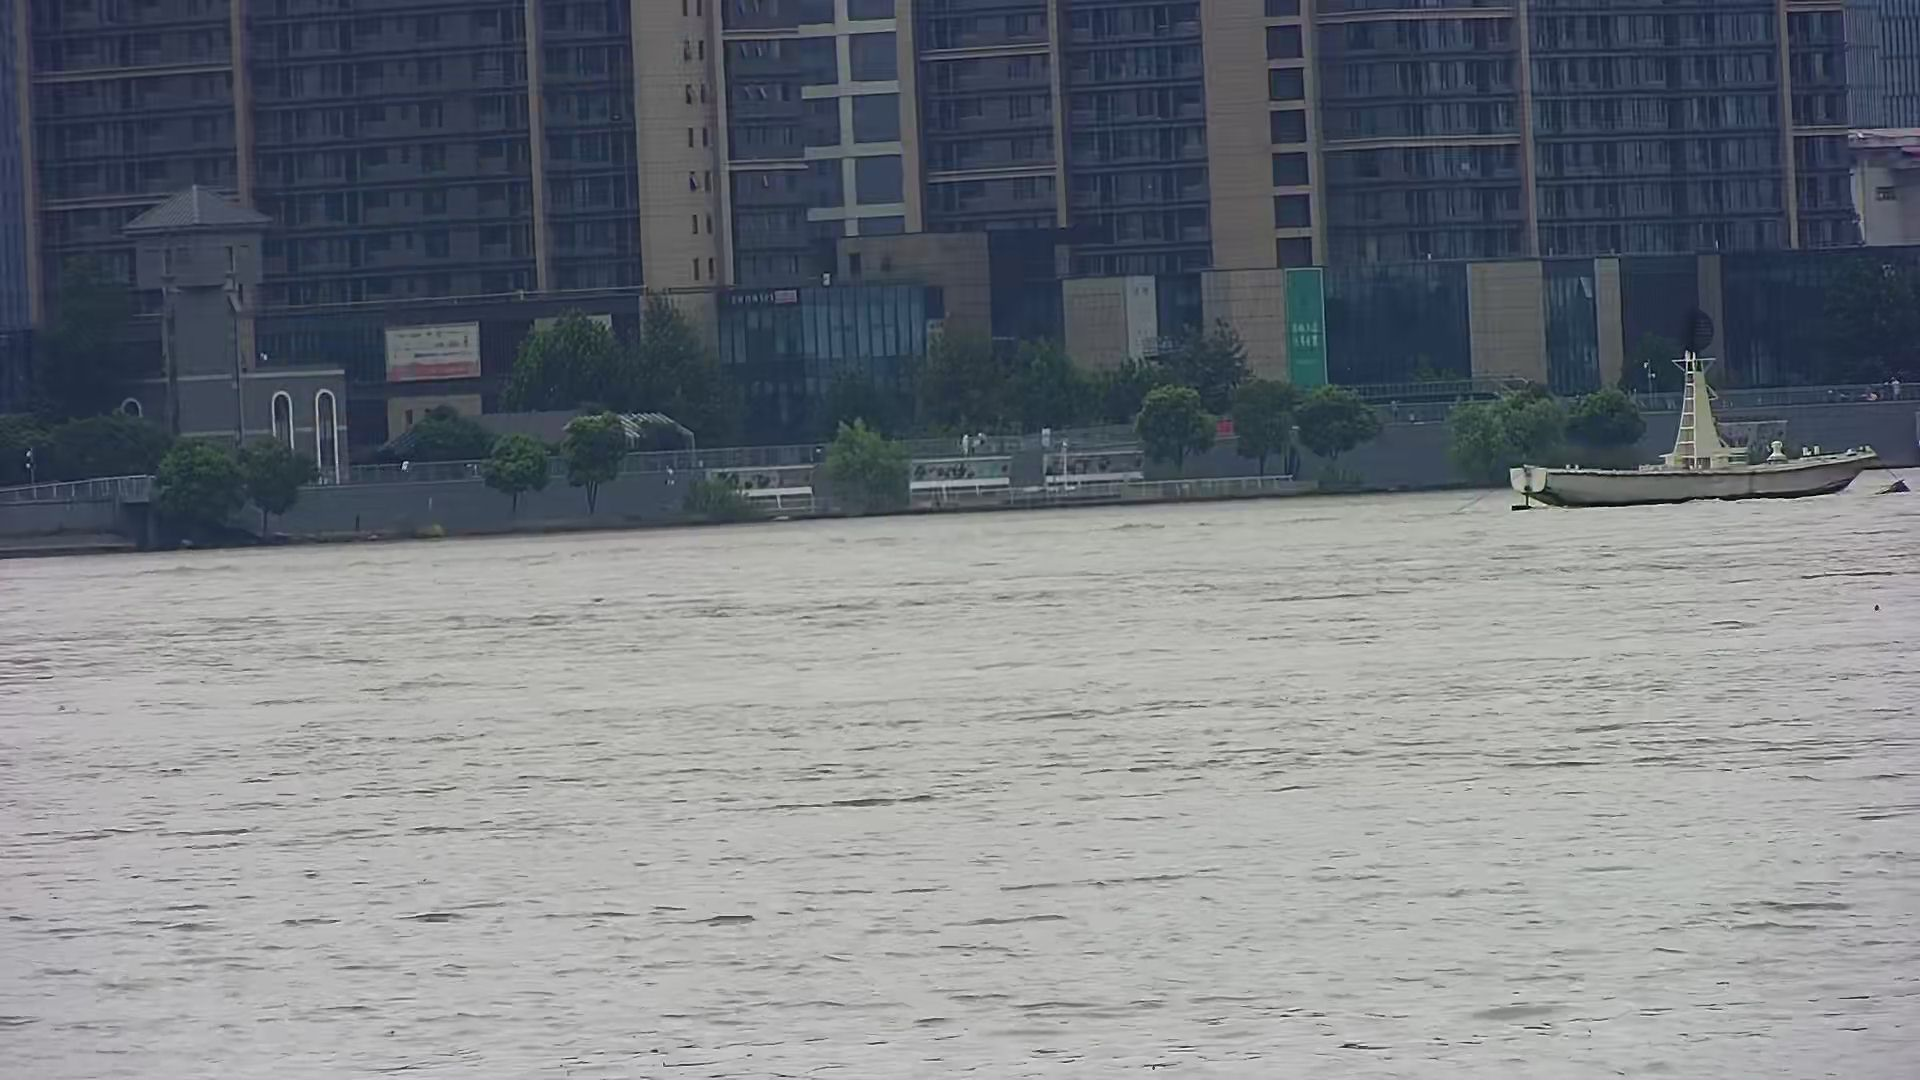boat: (1505, 313, 1880, 508)
